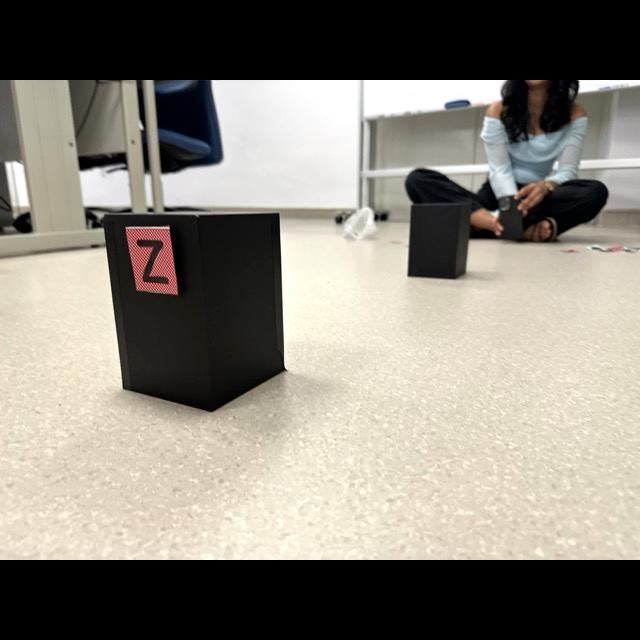Z: (136, 241, 169, 284)
